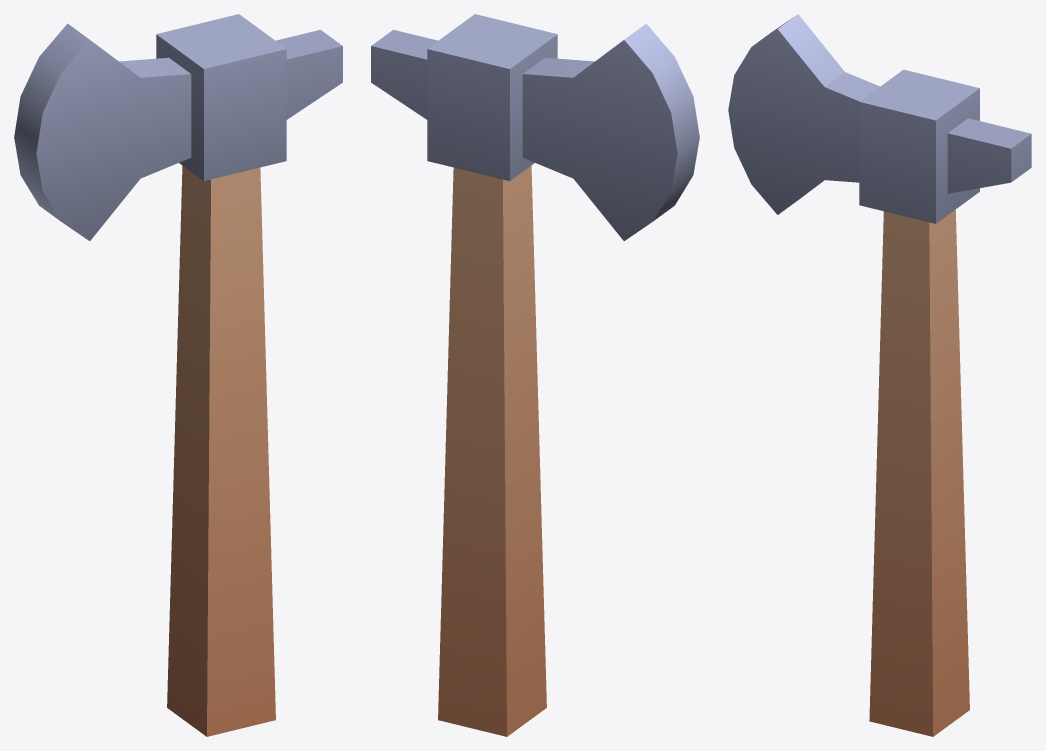
File: tool-axe.fbx
3 renders of one model, left to right at view 1: azimuth 30°, elevation 25°; view 2: azimuth 150°, elevation 25°; view 3: azimuth 330°, elevation 25°, orthographic. The views are drawn at different scales.
Visible parts, largest first — view 1: tool-axe; view 2: tool-axe; view 3: tool-axe.
Part boxes in pixels (x1,y1,x2,y2): tool-axe: (14, 14, 342, 736); tool-axe: (371, 14, 699, 736); tool-axe: (728, 14, 1031, 736).
Bounding box in the file's own units: 11.45 × 25.6 × 3.09.
1 material, 1 textured.
